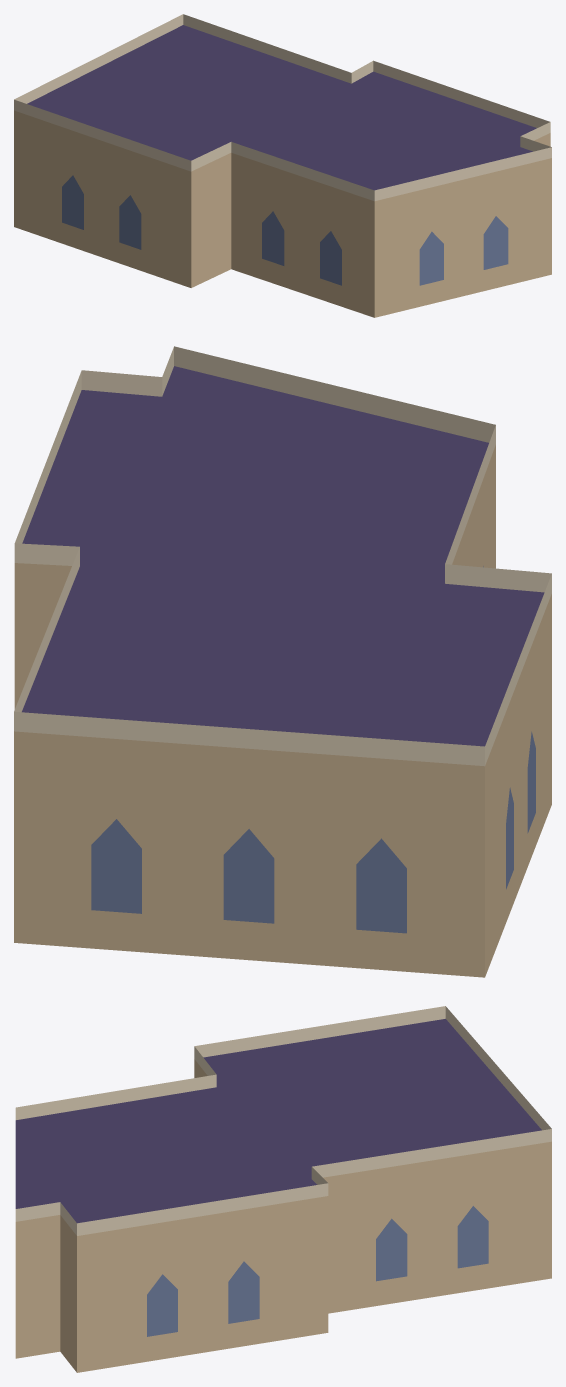
File: b-132-day.glb
The picture shows the model from 3 angles, top to bottom: view 1: azimuth 30°, elevation 25°; view 2: azimuth 150°, elevation 25°; view 3: azimuth 270°, elevation 25°; orthographic projection. The views are drawn at different scales.
Parts seen in each view (by area): view 1: campus/b-132-day-0; view 2: campus/b-132-day-0; view 3: campus/b-132-day-0.
Part boxes in pixels (x1=…): campus/b-132-day-0: x1=14, y1=14, x2=551, y2=317; campus/b-132-day-0: x1=14, y1=346, x2=551, y2=977; campus/b-132-day-0: x1=15, y1=1006, x2=551, y2=1372.
Size of the model in its own units: 20.09 by 6.45 by 21.02.
